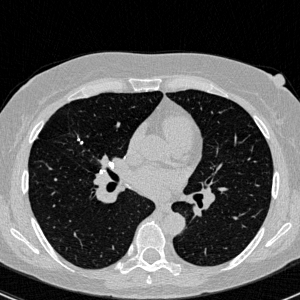nodule: (78, 138, 82, 142)
